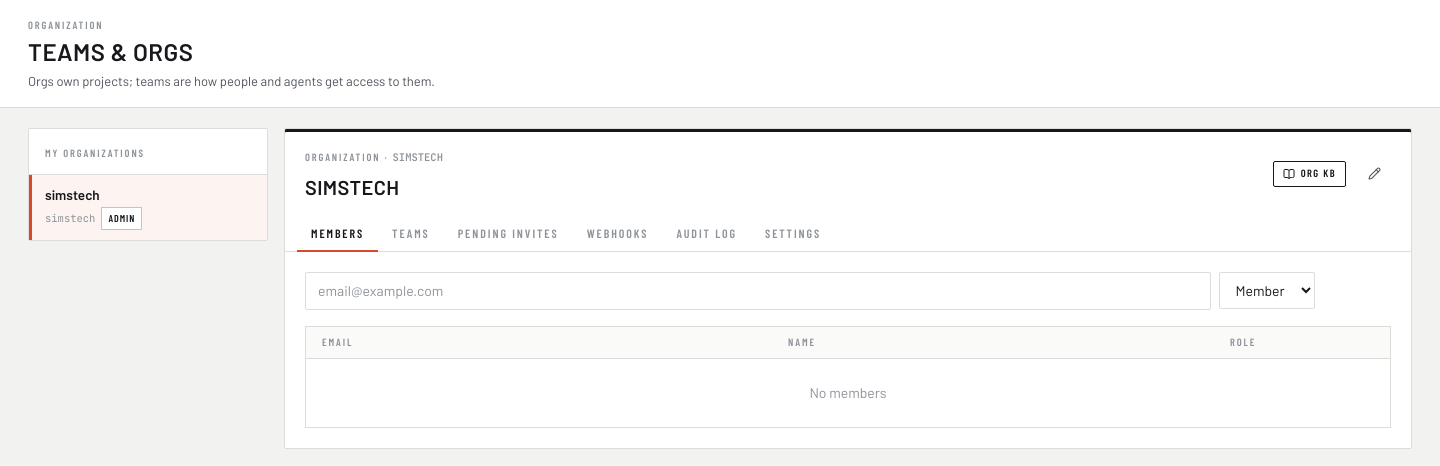
Test: Org settings → Allow remote control of harness sessions › says so when the server has no remote control yet
The width and height of the screenshot is (1440, 466).
Click the button "settings".
click(793, 233)  # box [751,214,835,252]
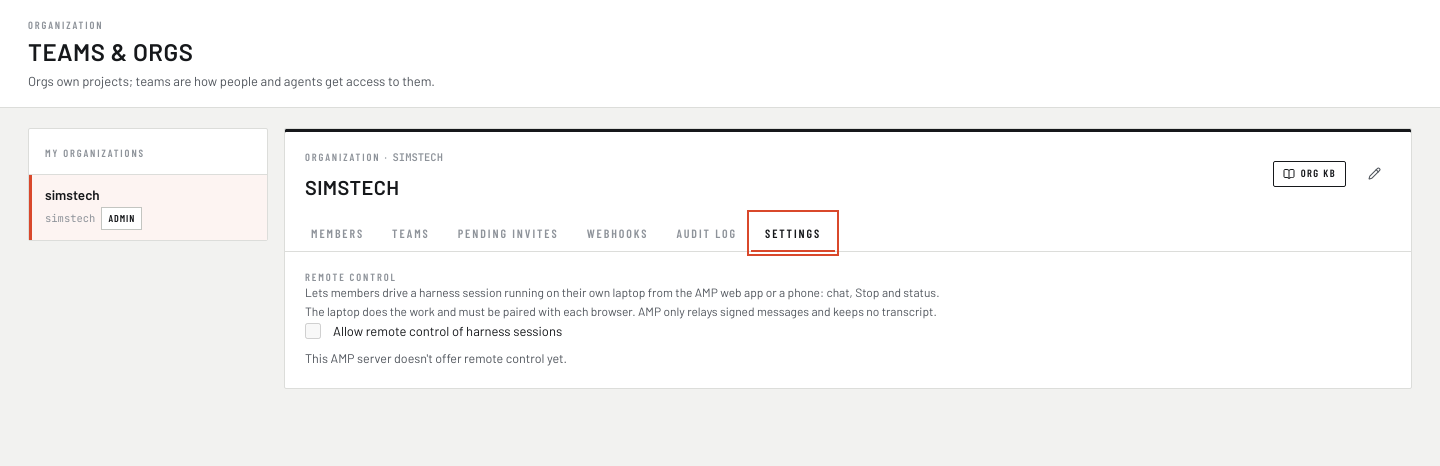
Now the text "This AMP server doesn't offer remote control yet." is shown, box [305,350,567,366]
Now the checkbox labelled "Allow remote control of harness sessions" is disabled, box [305,323,321,339]
